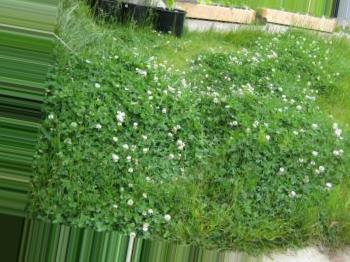patch: (159, 48, 198, 70)
